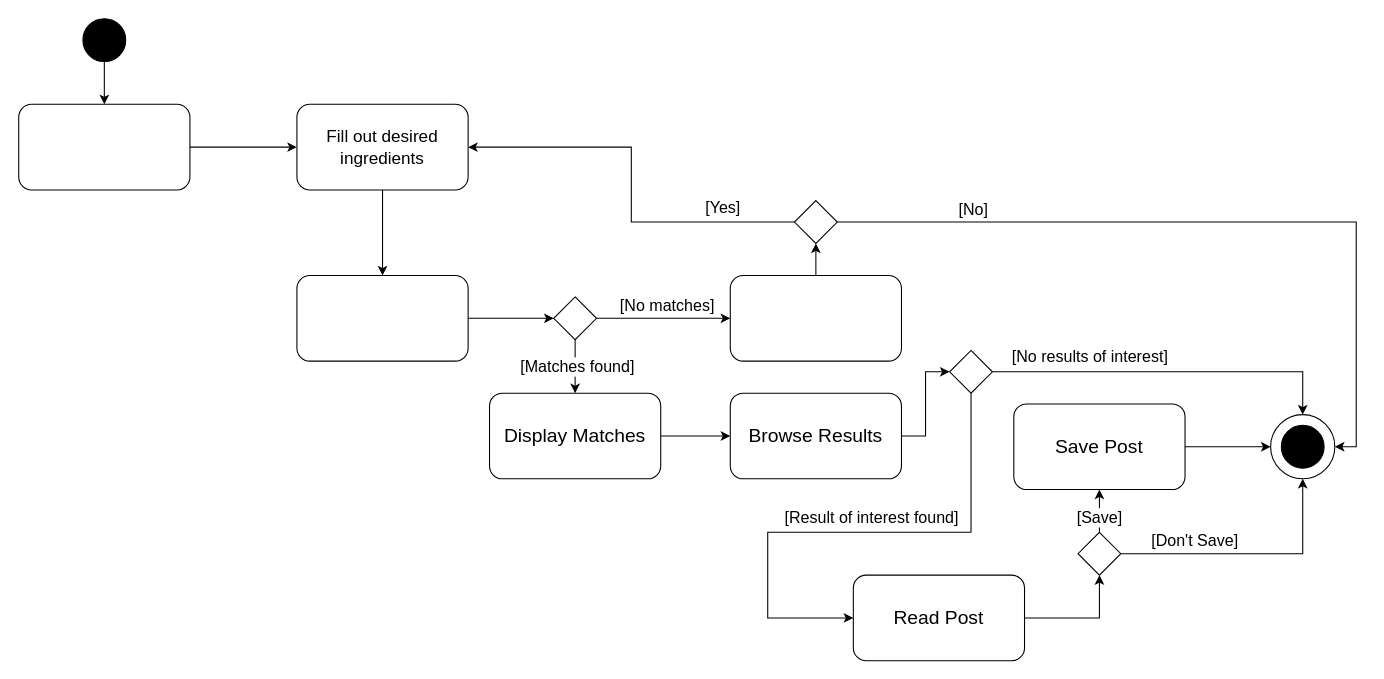
Some shapes in this 1384 by 679 pixel diagram are drawn without their labels. Here are the shapes that lost their labels. From the top down, the centre of each, then its label:
point (104, 146): Open "Search by Ingredients" tab
point (382, 317): Search for matching recipes
point (815, 317): Prompt to try again
